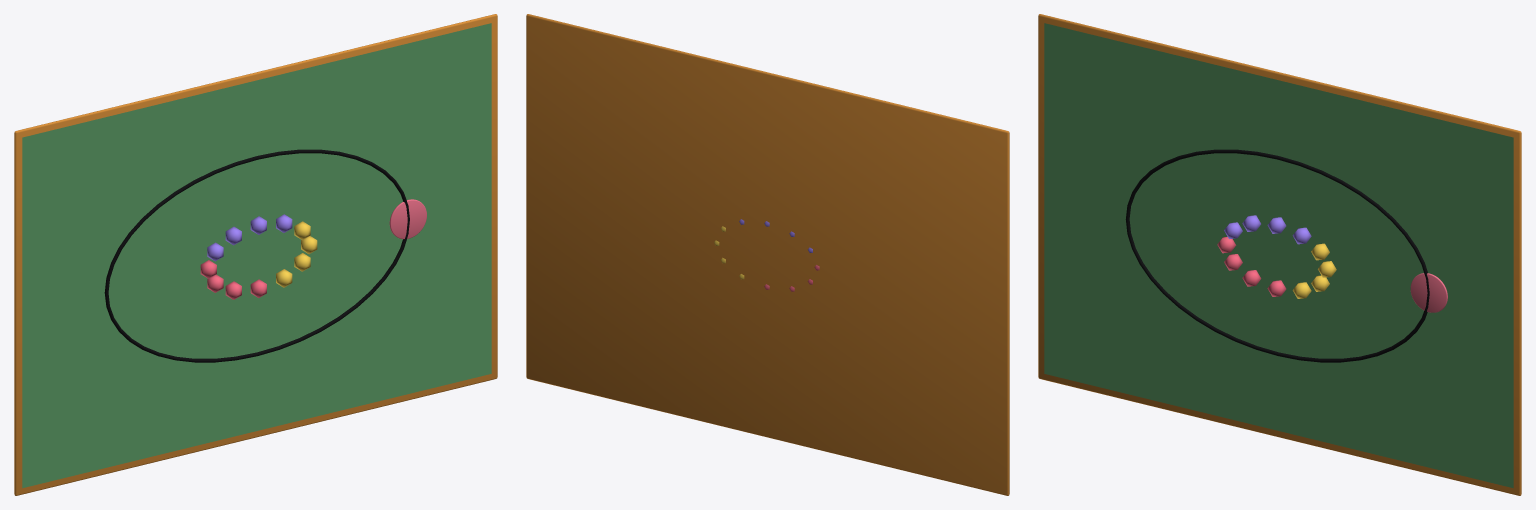
The model's file is carthabot_map_garden.obj.
3 views of the same model, side by side, from view 1: azimuth 30°, elevation 25°; view 2: azimuth 150°, elevation 25°; view 3: azimuth 330°, elevation 25° (orthographic).
Parts seen in each view (by area): view 1: PlayMat, MatRim, LineLoop, StartPad; view 2: MatRim; view 3: PlayMat, MatRim, LineLoop, StartPad.
Boxes of the visible parts, bbox=[...] form: PlayMat: bbox=[22, 23, 491, 488]; MatRim: bbox=[14, 14, 497, 495]; LineLoop: bbox=[104, 149, 409, 362]; StartPad: bbox=[389, 199, 426, 239]; MatRim: bbox=[526, 14, 1009, 495]; PlayMat: bbox=[1044, 23, 1513, 488]; MatRim: bbox=[1038, 14, 1521, 495]; LineLoop: bbox=[1125, 149, 1429, 362]; StartPad: bbox=[1410, 273, 1447, 312].
Size of the model in its own units: 28.8 by 20.8 by 1.
